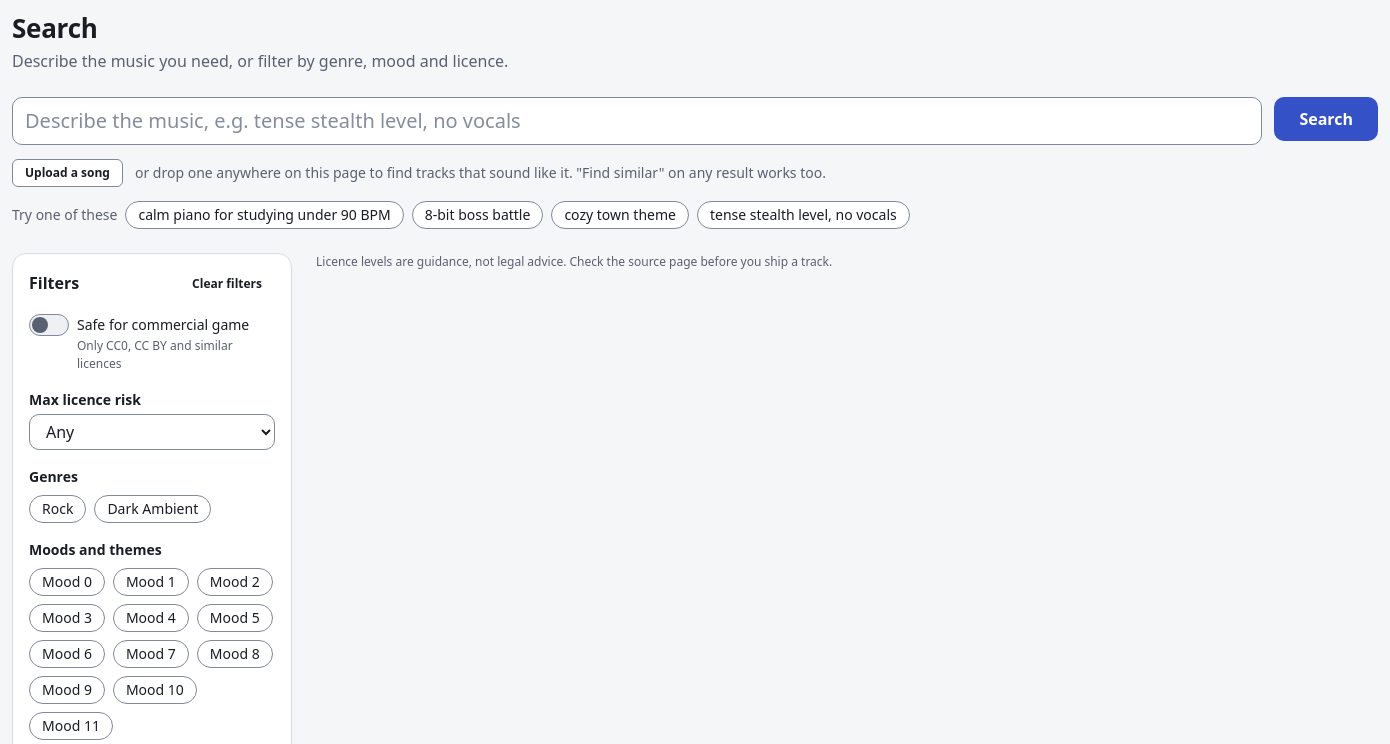
Scenario: Search page: filters › maps the safe toggle to max_risk green and hides the risk select
Check: the dropdown labelled "Max licence risk" is shown, box [29,414,275,450]
Click the switch named "Safe for commercial game": [49, 324] box [29,314,69,336]
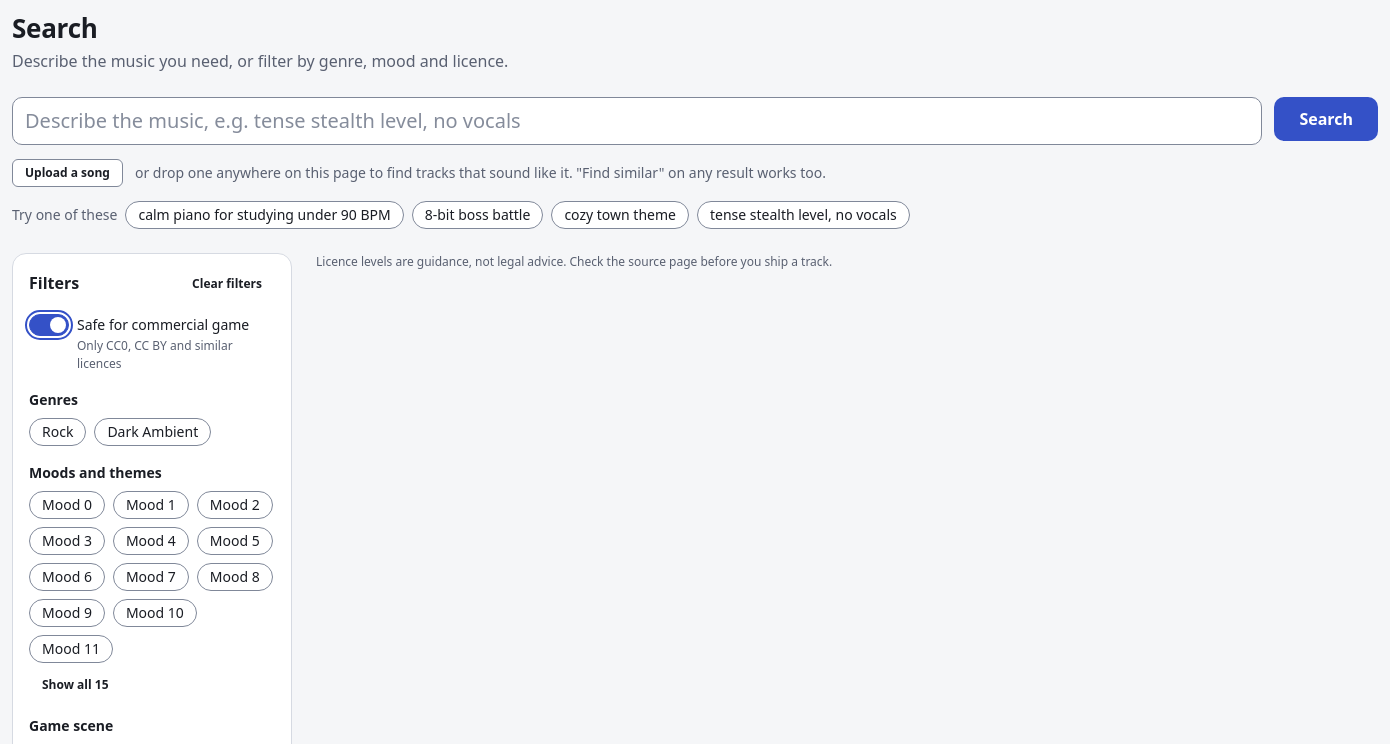
Check: the label labelled "Max licence risk" is gone
In the field named "Describe the music you need": [637, 120] box [12,96,1262,144], type "rain"
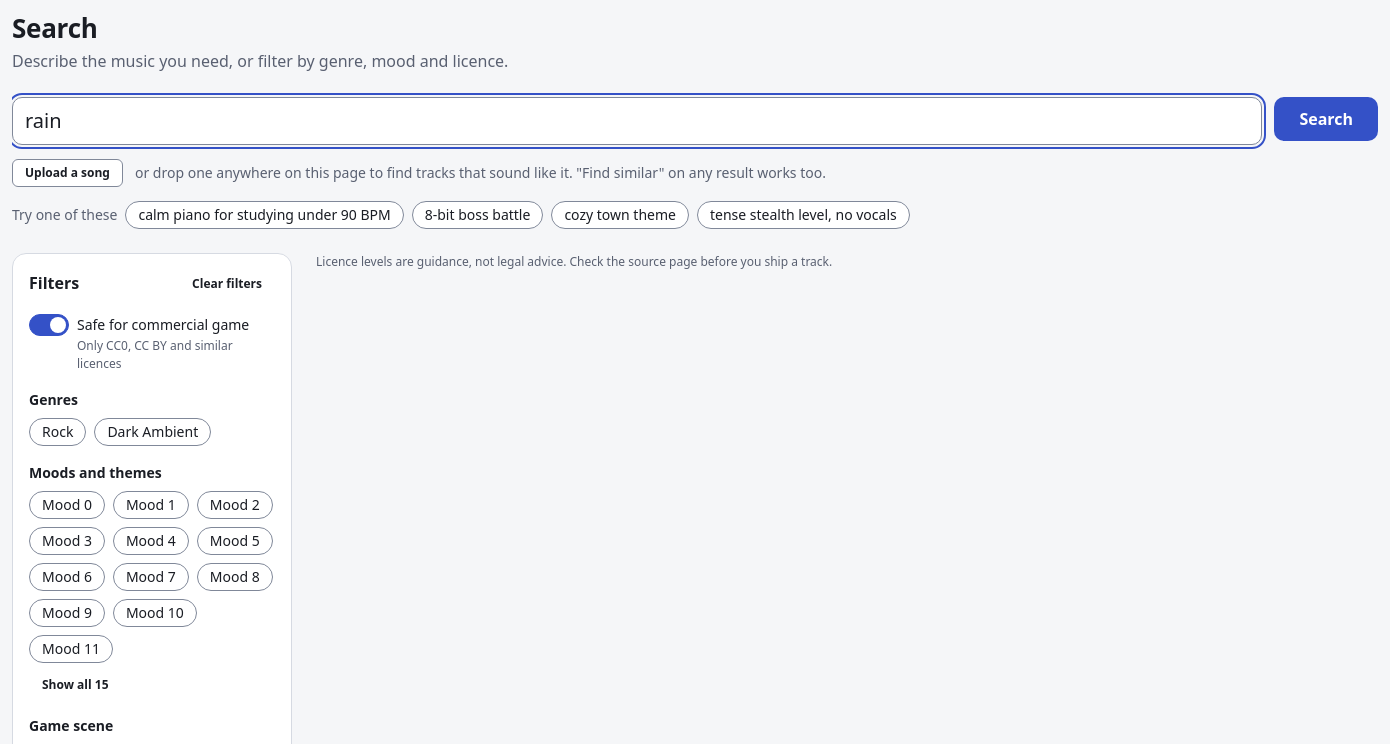
Click the button "Search": [1326, 118] box [1274,96,1378,140]
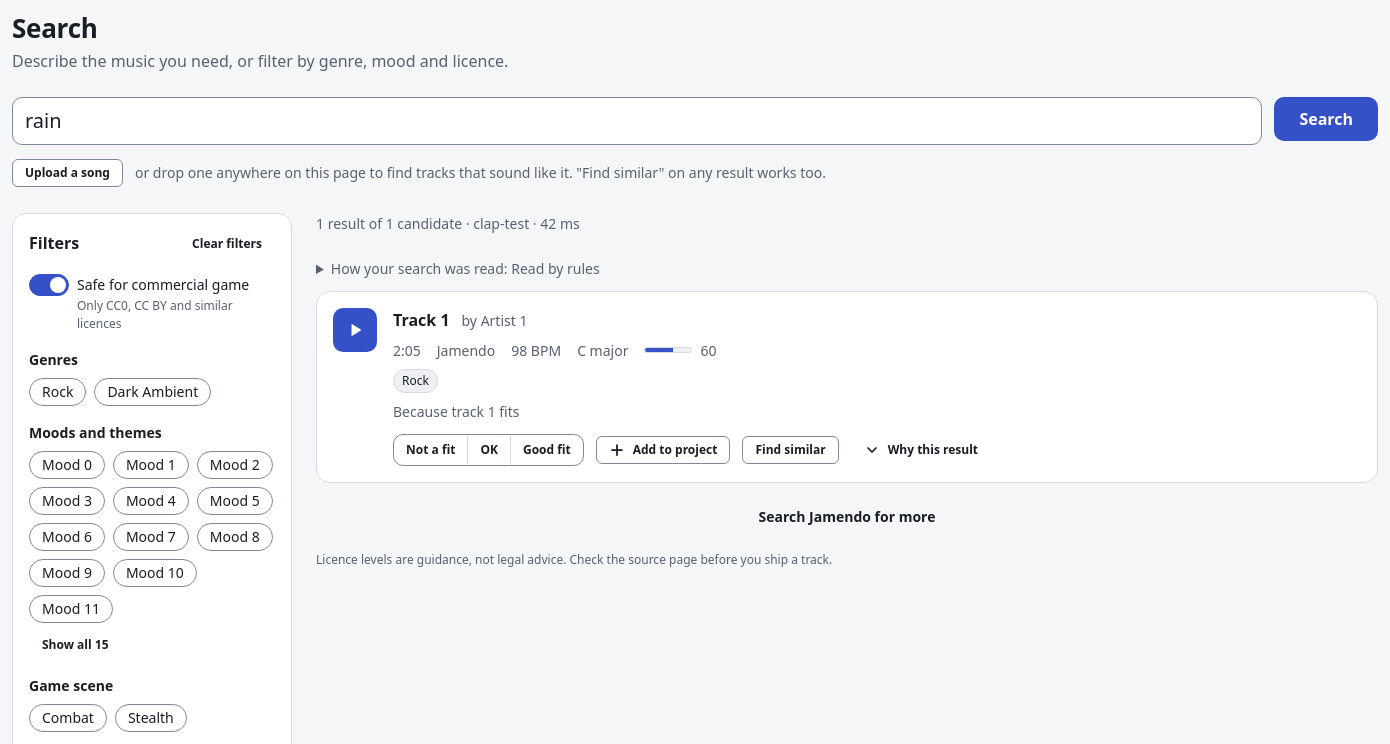
Check: the button "Track 1" is shown, box [393,308,450,332]
